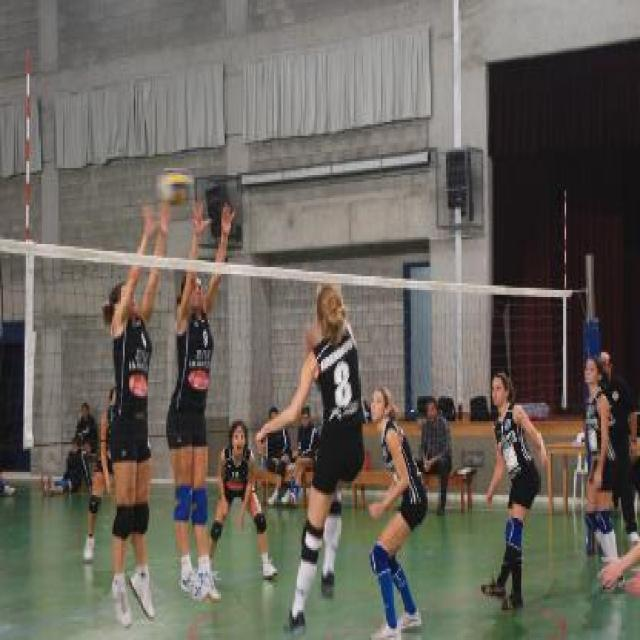volleyball: (156, 168, 194, 207)
